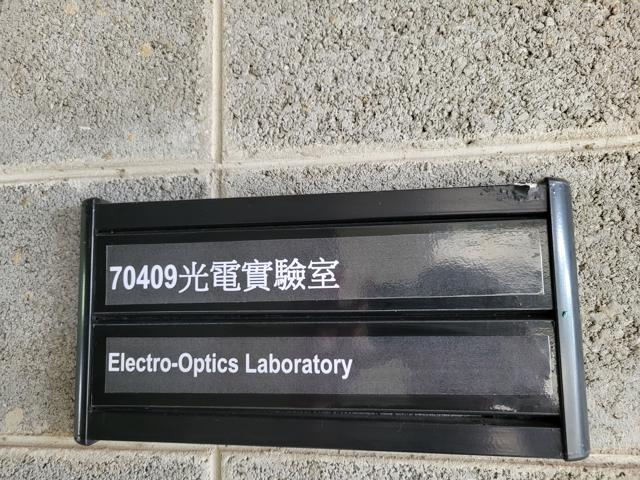doorplate: (72, 164, 598, 468)
